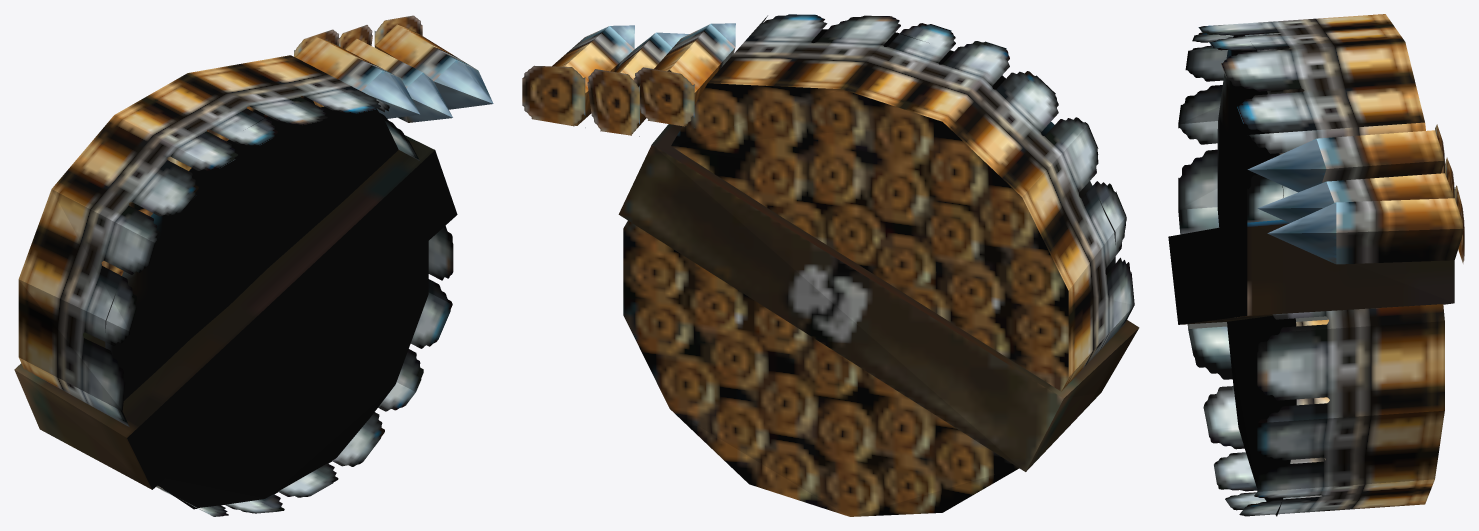
Rendered from TCHAINPACK.obj.
3 views of the same model, side by side, from view 1: azimuth 30°, elevation 25°; view 2: azimuth 150°, elevation 25°; view 3: azimuth 270°, elevation 25° (orthographic). The views are drawn at different scales.
Visible parts, largest first — view 1: Node 0; view 2: Node 0; view 3: Node 0.
Boxes of the visible parts, x1,y1,x2,y2 form: Node 0: (14,15,493,516); Node 0: (522,14,1139,516); Node 0: (1168,14,1464,516).
Bounding box in the file's own units: 0.6 × 0.49 × 0.3.
1 material, 1 textured.
